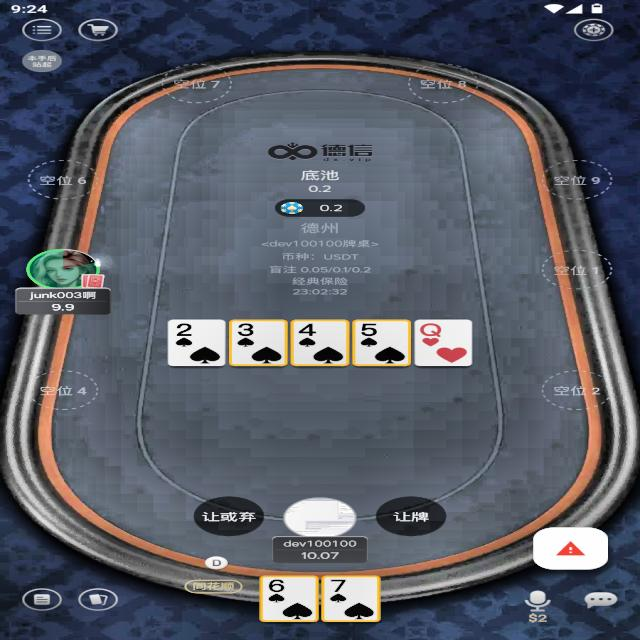2s: (173, 321, 196, 338)
3s: (235, 322, 258, 338)
4s: (295, 322, 322, 338)
5s: (357, 322, 381, 338)
6s: (264, 577, 290, 594)
7s: (326, 578, 349, 594)
Qh: (418, 322, 448, 338)
